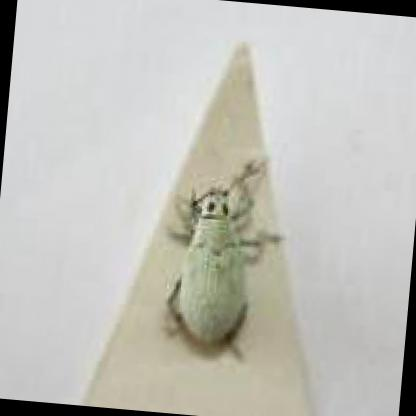ash weevil: (174, 191, 249, 345)
